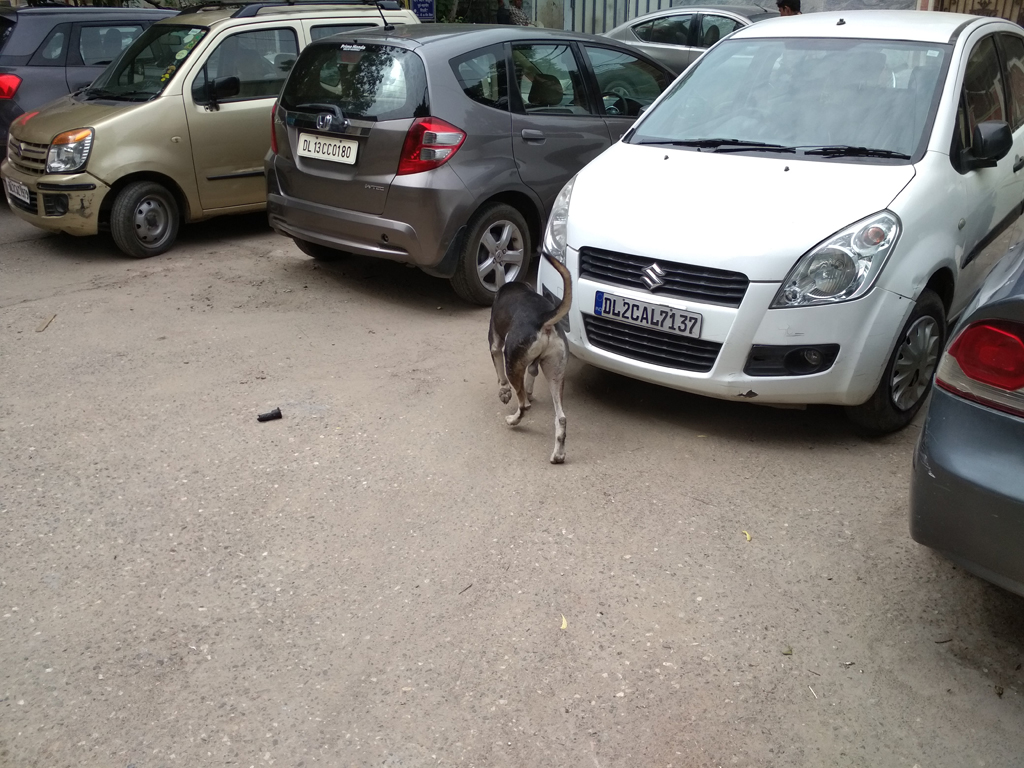dog: (488, 246, 573, 465)
